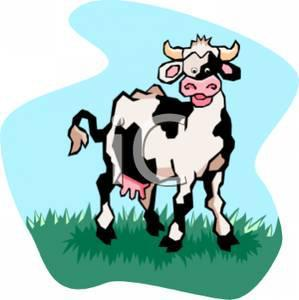cow: (57, 31, 242, 261)
